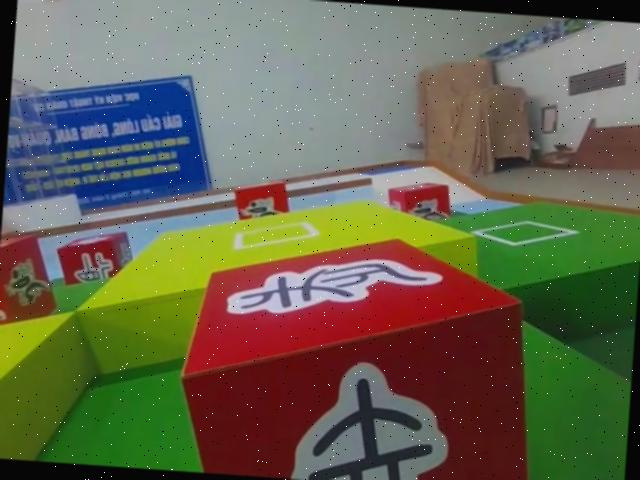R1: (0, 225, 63, 333), (383, 173, 459, 224), (229, 171, 295, 223)
R2 Fake: (168, 215, 548, 480)
R2 Real: (53, 223, 136, 292)
